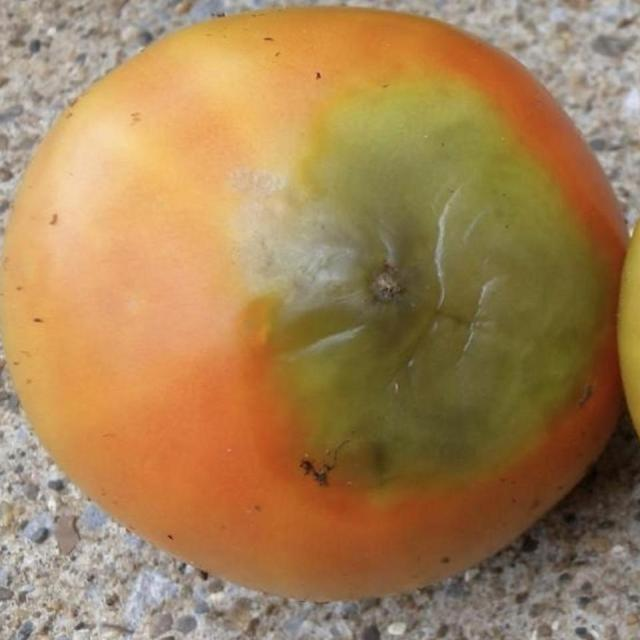Sunscald Fruit: (162, 32, 407, 333)
